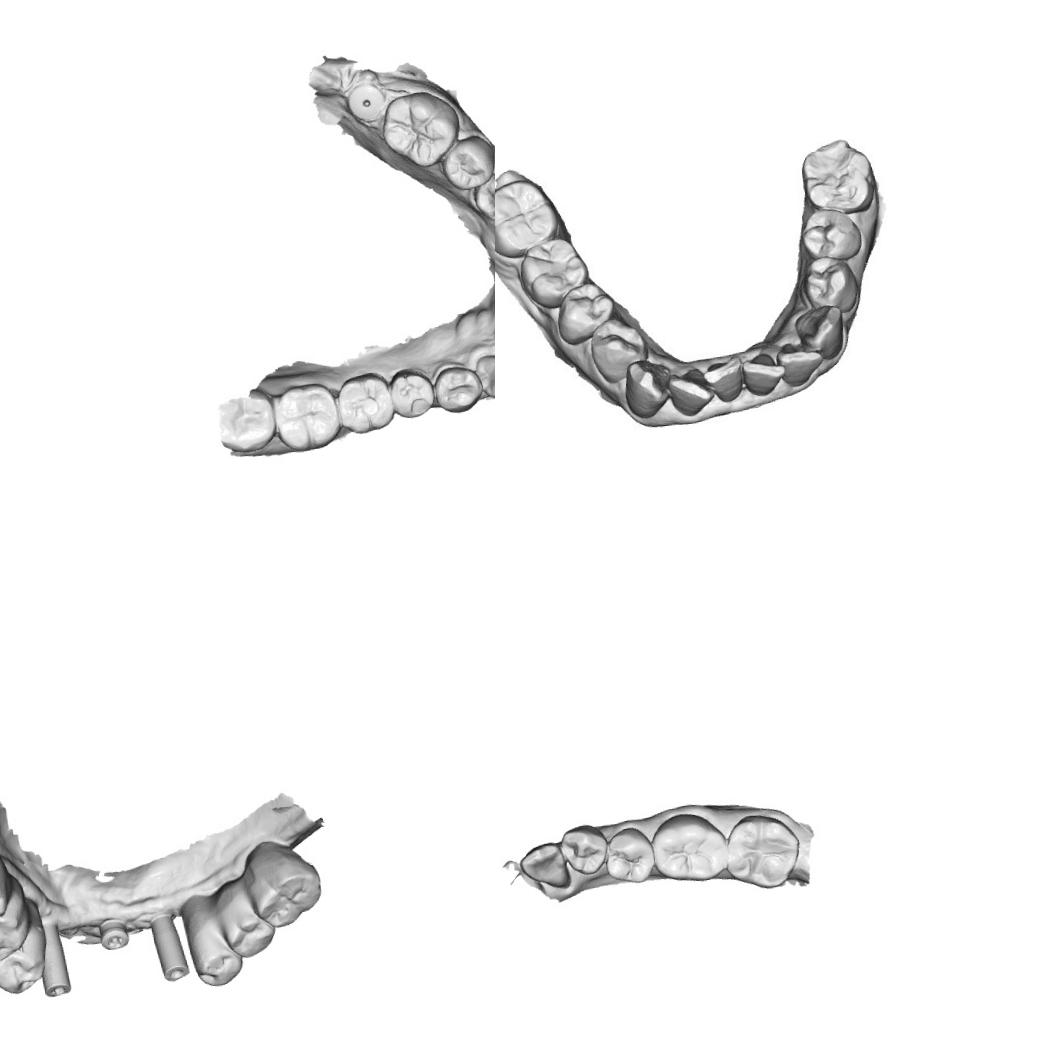canine: (791, 301, 848, 364), (621, 356, 673, 421), (517, 840, 572, 892), (473, 349, 495, 399)
implant: (149, 907, 192, 986), (35, 916, 74, 1002), (345, 80, 386, 123)
implant_plus: (91, 911, 133, 958)
incisor: (700, 352, 752, 410), (665, 364, 716, 418), (774, 339, 821, 389), (740, 349, 786, 397)
molar: (243, 842, 328, 929), (378, 87, 464, 171), (795, 133, 879, 219), (722, 810, 803, 892), (648, 810, 730, 886), (495, 172, 565, 258), (273, 380, 342, 453), (215, 386, 281, 455), (334, 368, 396, 436)
premolar: (514, 233, 594, 310), (586, 312, 649, 386), (797, 202, 865, 266), (800, 254, 862, 318), (552, 282, 614, 346), (437, 132, 495, 193), (602, 824, 656, 886), (194, 933, 248, 989), (556, 822, 610, 878), (432, 363, 484, 414), (388, 367, 435, 420), (226, 899, 271, 954), (0, 942, 45, 997), (0, 906, 31, 965), (470, 169, 495, 225)
